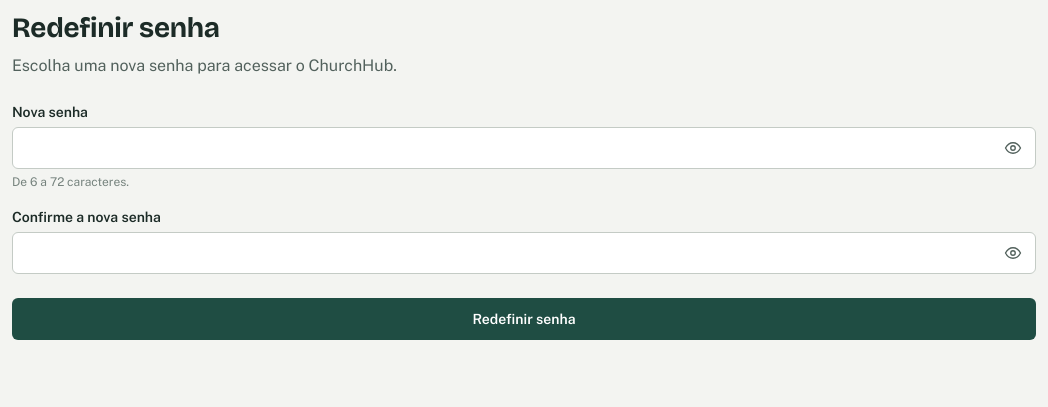
redefinir senha › confirmação diferente ou senha curta não chegam à API
Type "12345" into the password field labelled "Nova senha" at (524, 148), box top-left (12, 127), bottom-right (1036, 169)
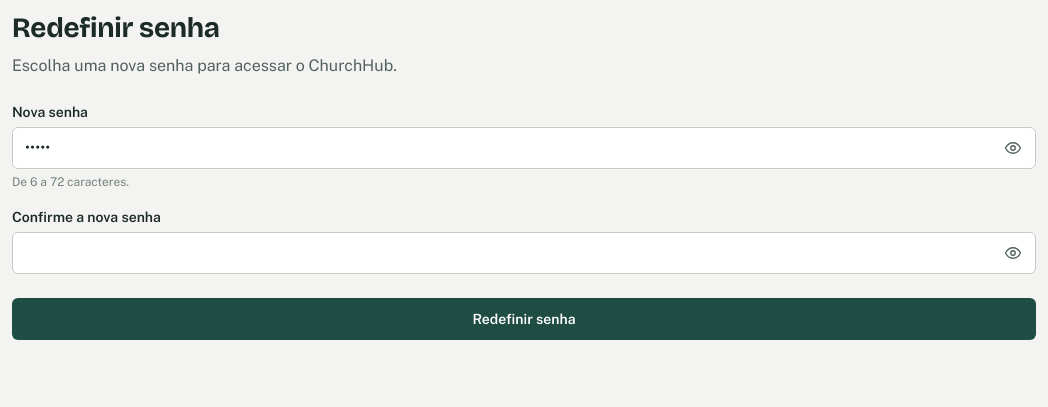
Type "outra" into the password field labelled "Confirme a nova senha" at (524, 253), box top-left (12, 232), bottom-right (1036, 274)
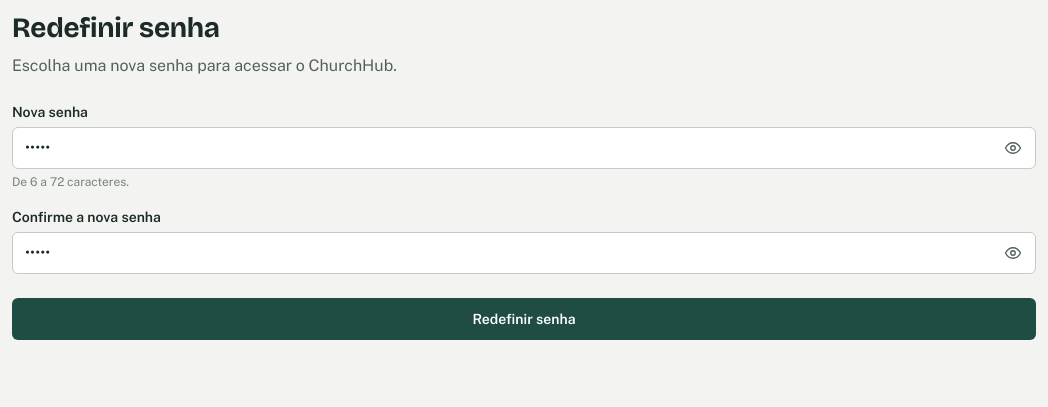
Click the button "Redefinir senha" at (524, 319), box top-left (12, 298), bottom-right (1036, 340)
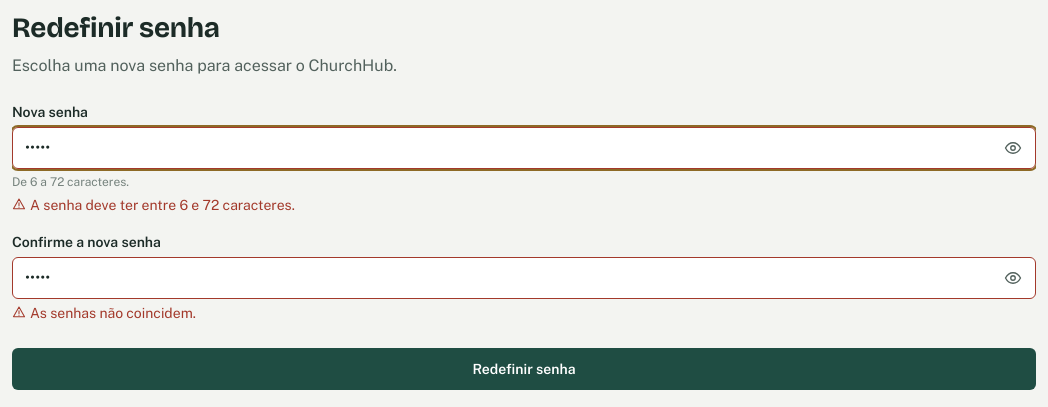
Result: the text "A senha deve ter entre 6 e 72 caracteres." is shown at top-left (12, 197), bottom-right (295, 213)
Result: the text "As senhas não coincidem." is shown at top-left (12, 305), bottom-right (196, 321)
